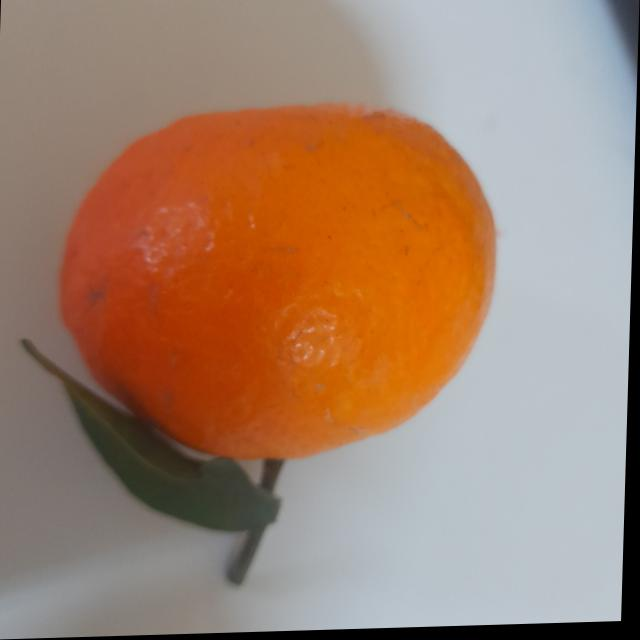Cam: (2, 86, 516, 598)
